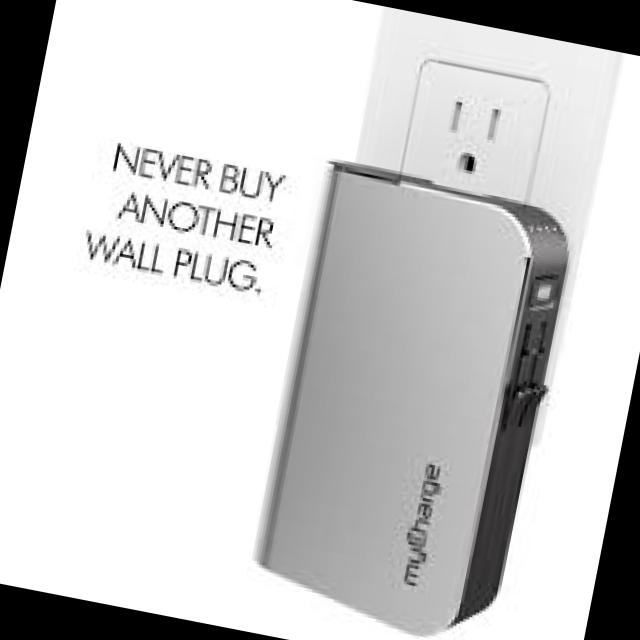portable-charger: (242, 157, 585, 640)
